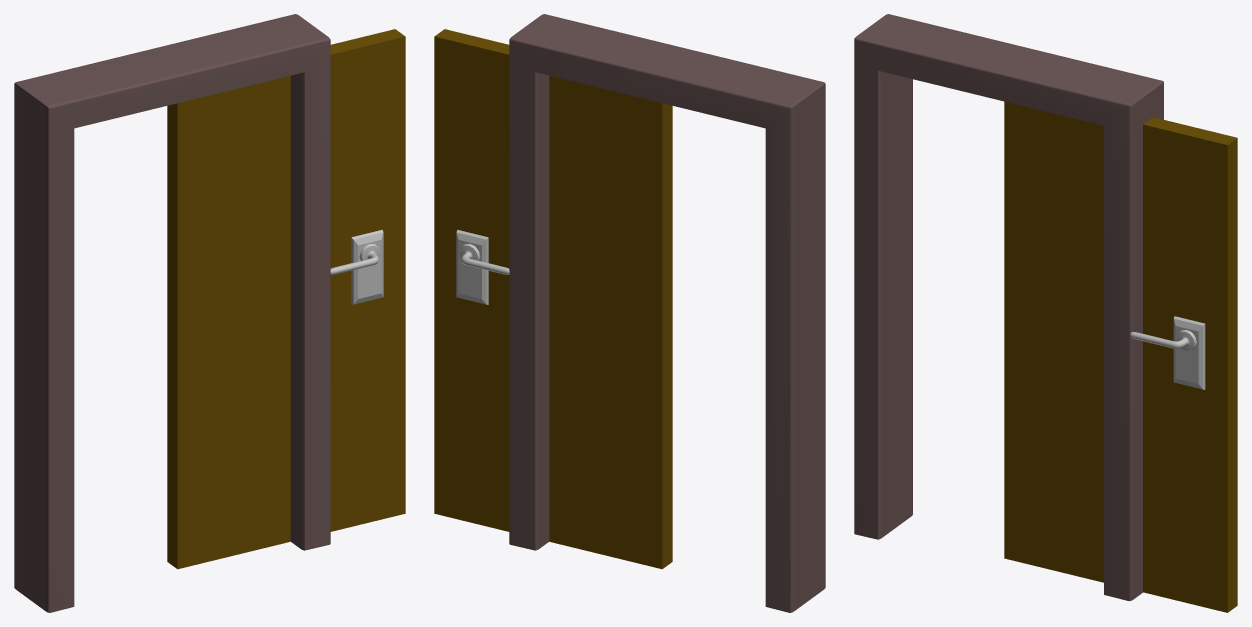
The model's file is door_ver1.fbx.
The picture shows the model from 3 angles, left to right: view 1: azimuth 30°, elevation 25°; view 2: azimuth 150°, elevation 25°; view 3: azimuth 330°, elevation 25°; orthographic projection. The views are drawn at different scales.
Visible parts, largest first — view 1: door, doorframe; view 2: door, doorframe; view 3: door, doorframe.
Part boxes in pixels (<box>): door: <box>167,29,405,569</box>; doorframe: <box>14,14,330,612</box>; door: <box>434,29,672,569</box>; doorframe: <box>509,14,825,612</box>; door: <box>1004,101,1237,612</box>; doorframe: <box>854,14,1163,601</box>.
Size of the model in its own units: 1.62 by 2.12 by 0.2748.
